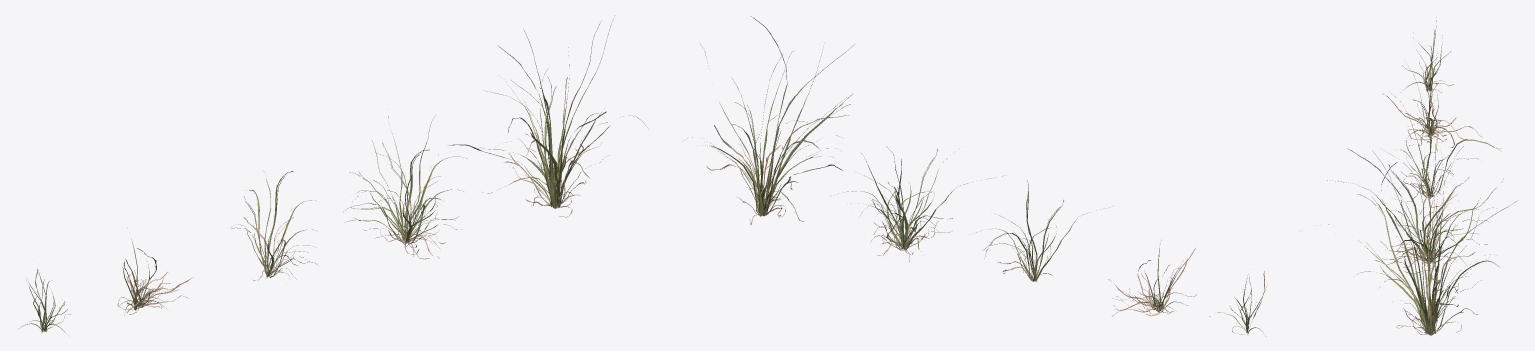
File: grass_medium_02.glb
The picture shows the model from 3 angles, left to right: view 1: azimuth 30°, elevation 25°; view 2: azimuth 150°, elevation 25°; view 3: azimuth 270°, elevation 25°; orthographic projection. The views are drawn at different scales.
Visible parts, largest first — view 1: grass_medium_02_e, grass_medium_02_d, grass_medium_02_c, grass_medium_02_b, grass_medium_02_a; view 2: grass_medium_02_e, grass_medium_02_d, grass_medium_02_c, grass_medium_02_b, grass_medium_02_a; view 3: grass_medium_02_e, grass_medium_02_d, grass_medium_02_c, grass_medium_02_b, grass_medium_02_a.
Part boxes in pixels (box(x1,y1,x2,y2)): grass_medium_02_e: box(449, 18, 648, 217); grass_medium_02_d: box(343, 115, 467, 259); grass_medium_02_c: box(231, 171, 317, 280); grass_medium_02_b: box(117, 239, 192, 315); grass_medium_02_a: box(19, 269, 70, 332); grass_medium_02_e: box(684, 16, 853, 224); grass_medium_02_d: box(830, 146, 1003, 262); grass_medium_02_c: box(976, 181, 1100, 281); grass_medium_02_b: box(1108, 240, 1197, 316); grass_medium_02_a: box(1209, 271, 1266, 334); grass_medium_02_e: box(1328, 148, 1516, 335); grass_medium_02_d: box(1327, 146, 1503, 274); grass_medium_02_c: box(1391, 93, 1501, 214); grass_medium_02_b: box(1382, 53, 1482, 151); grass_medium_02_a: box(1400, 17, 1453, 92).
Size of the model in its own units: 1.31 by 0.4053 by 0.4332.
Materials: 1 (1 with a texture image).
